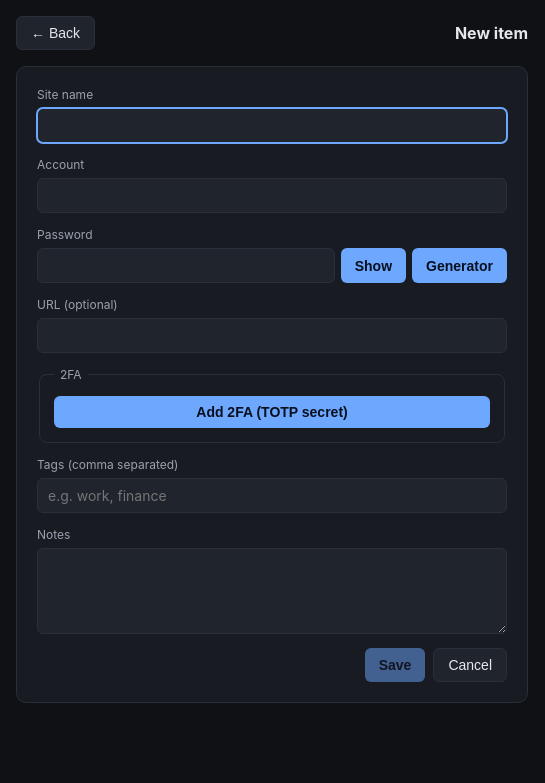
Scenario: ItemDetail — new item › opens the generator panel and generates with chosen options
The image size is (545, 783).
Click the button "Generator": {"x": 460, "y": 266} [412,248,507,283]
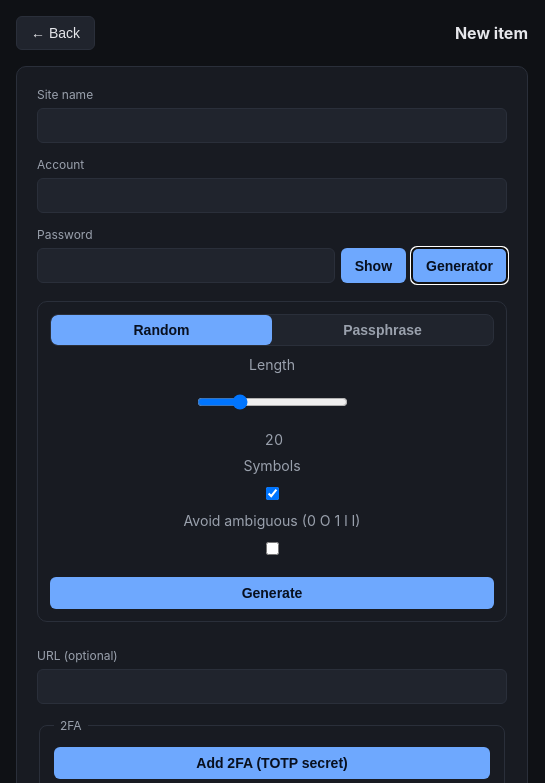
Click the button "Generate": {"x": 272, "y": 593} [50,577,494,609]
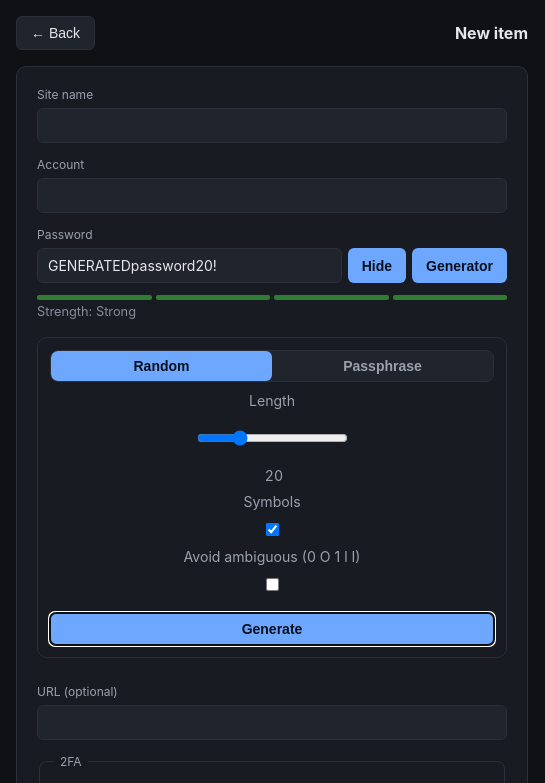
Expected: the field showing "GENERATEDpassword20!" is shown, [37,248,342,283]
